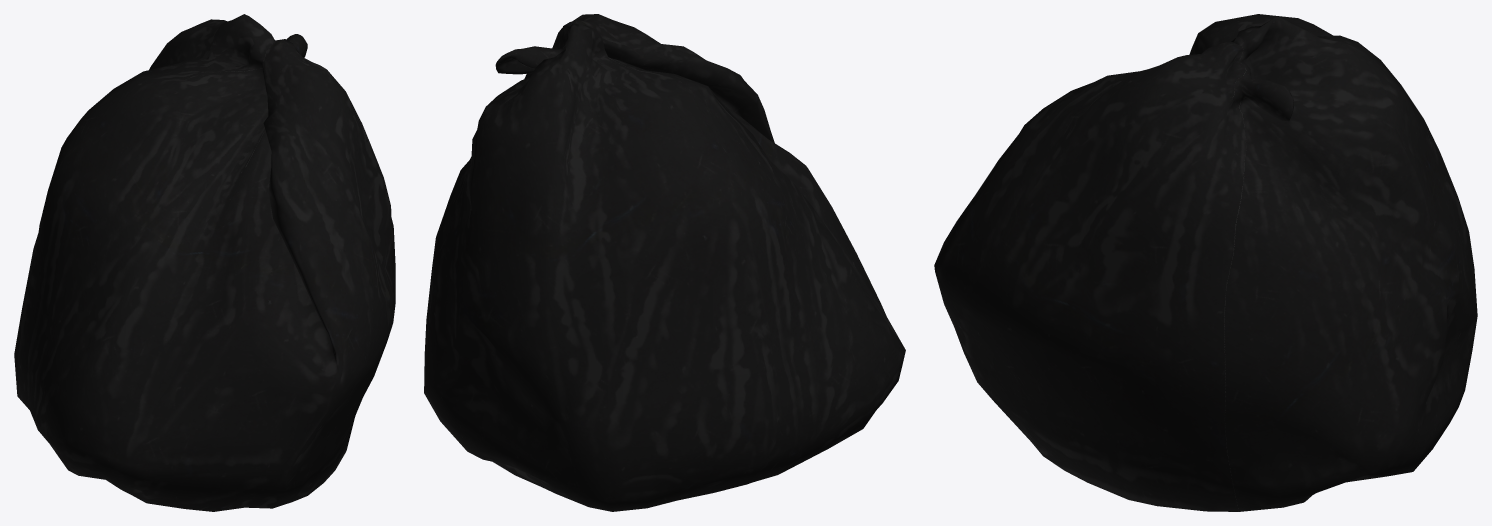
The model's file is SM_Prop_Garbage_Bag_x1.fbx.
3 views of the same model, side by side, from view 1: azimuth 30°, elevation 25°; view 2: azimuth 150°, elevation 25°; view 3: azimuth 270°, elevation 25° (orthographic). The views are drawn at different scales.
Parts seen in each view (by area): view 1: SM_Prop_Garbage_Bag_x1_LOD0; view 2: SM_Prop_Garbage_Bag_x1_LOD0; view 3: SM_Prop_Garbage_Bag_x1_LOD0.
Boxes of the visible parts, left/top/right/bottom form: SM_Prop_Garbage_Bag_x1_LOD0: left=14, top=14, right=395, bottom=511; SM_Prop_Garbage_Bag_x1_LOD0: left=424, top=14, right=905, bottom=511; SM_Prop_Garbage_Bag_x1_LOD0: left=934, top=14, right=1477, bottom=511.
Size of the model in its own units: 54.96 by 62.74 by 58.98.
Materials: 1 (1 with a texture image).
